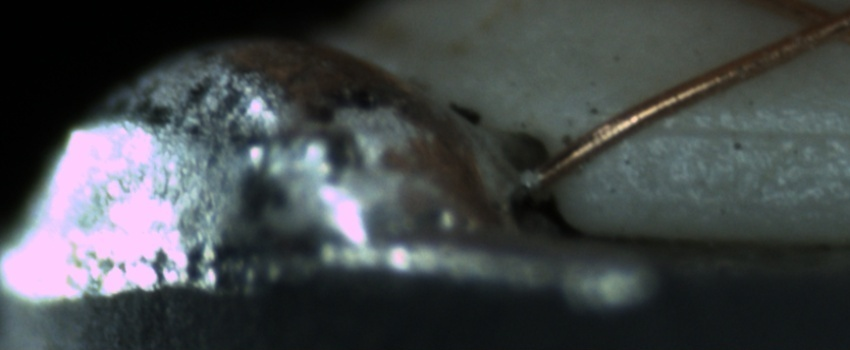CL: (773, 2, 848, 54)
DL: (633, 99, 850, 162)
